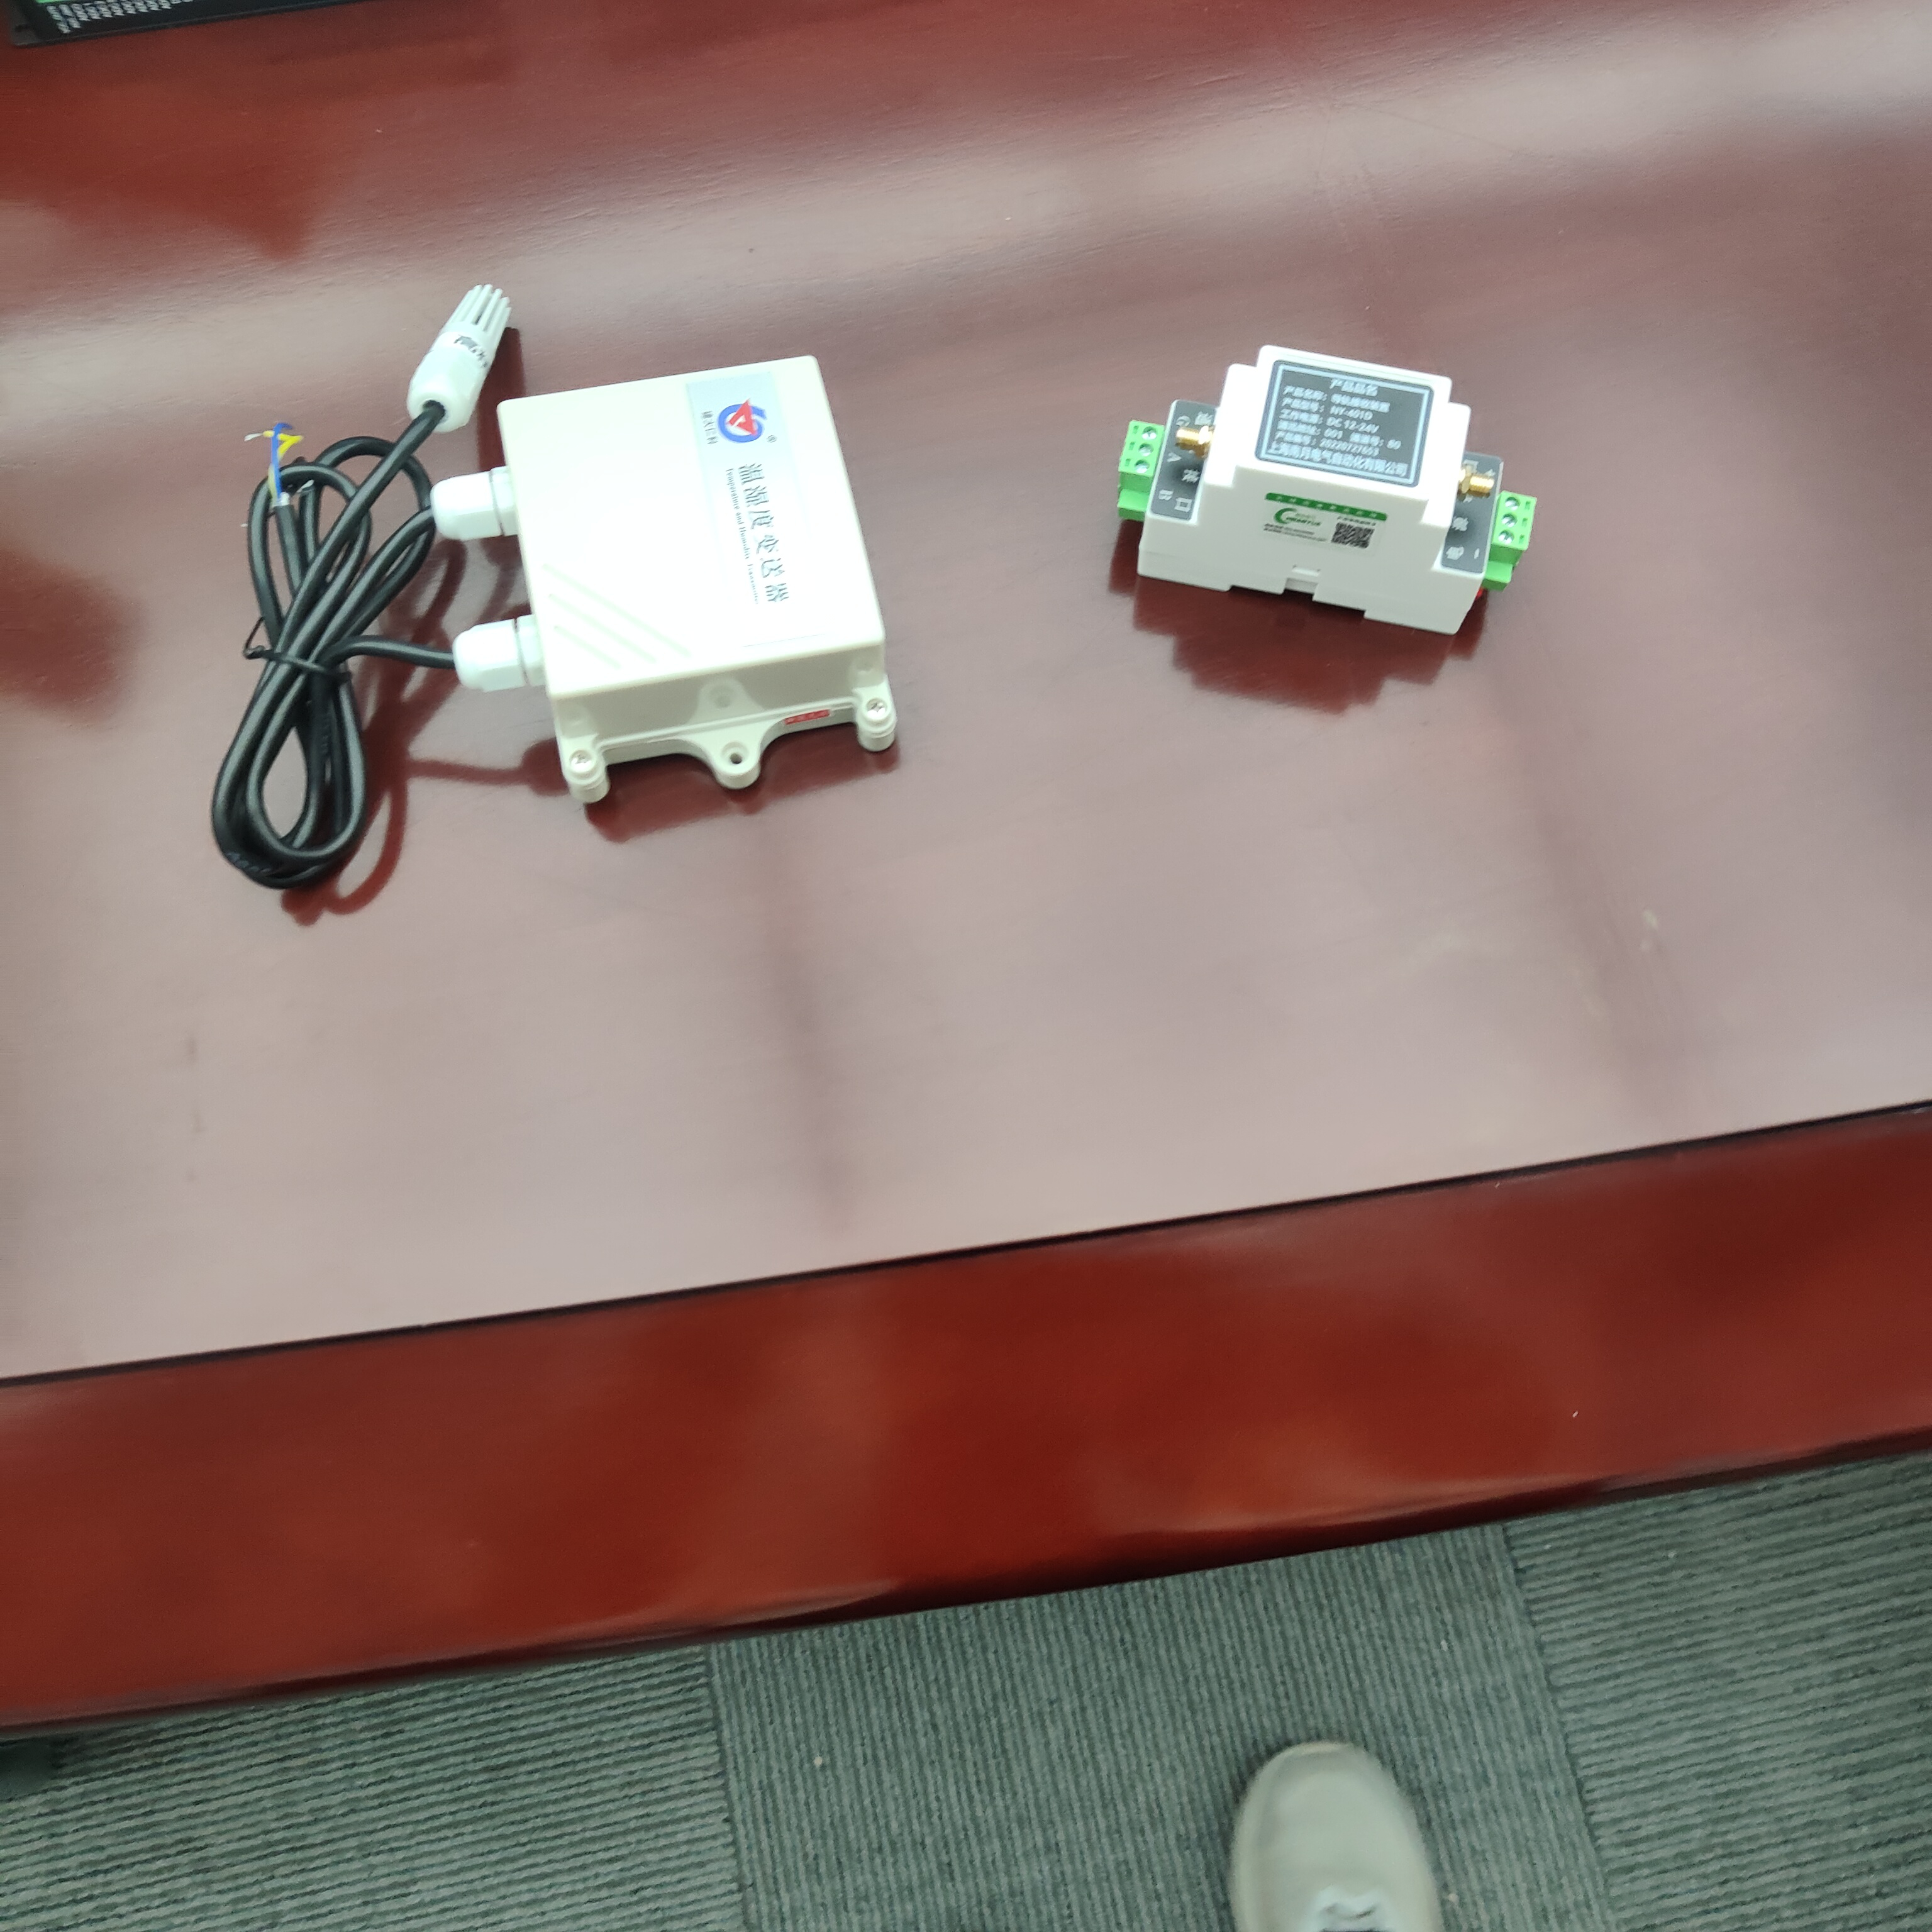dgjs: (1111, 347, 1550, 663)
wsdbsq: (479, 331, 938, 810)
